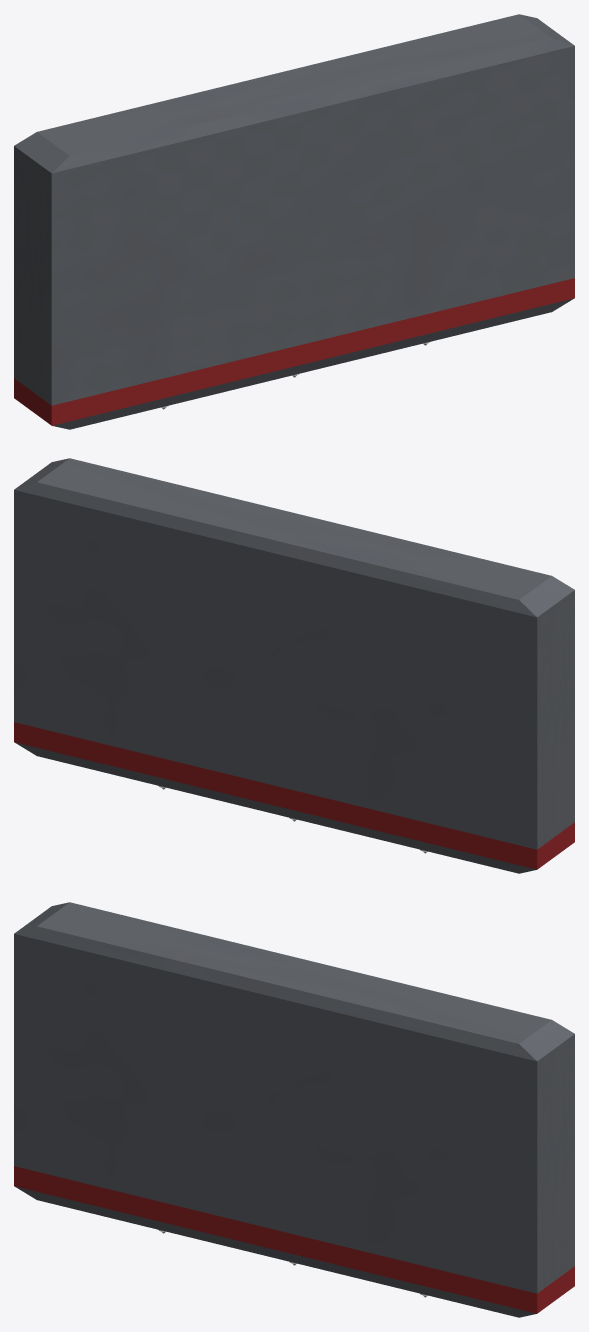
File: wall.fbx
3 views of the same model, one above another, from view 1: azimuth 30°, elevation 25°; view 2: azimuth 150°, elevation 25°; view 3: azimuth 330°, elevation 25° (orthographic).
Visible parts, largest first — view 1: Cube.003; view 2: Cube.003; view 3: Cube.003.
Boxes of the visible parts, <box> form: Cube.003: <box>14,14,574,429</box>; Cube.003: <box>14,458,574,873</box>; Cube.003: <box>14,902,574,1317</box>.
Bounding box in the file's own units: 400 × 214 × 50.
Materials: 3 (1 with a texture image).
